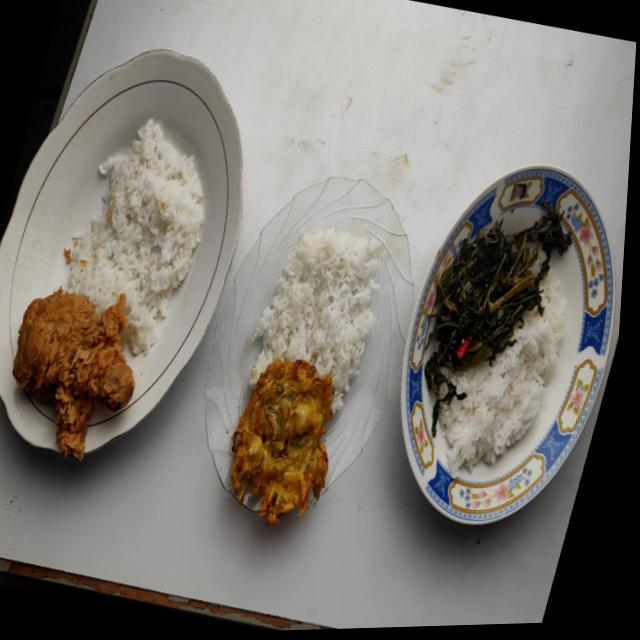nasi_putih: (68, 118, 204, 354), (438, 275, 566, 472), (248, 228, 380, 409)
tumis_kangkung: (423, 202, 572, 436)
